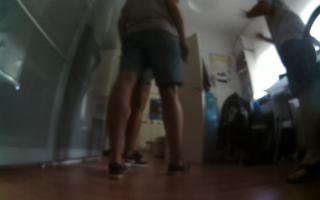person: (105, 1, 192, 184), (238, 1, 320, 189), (122, 67, 155, 168)
